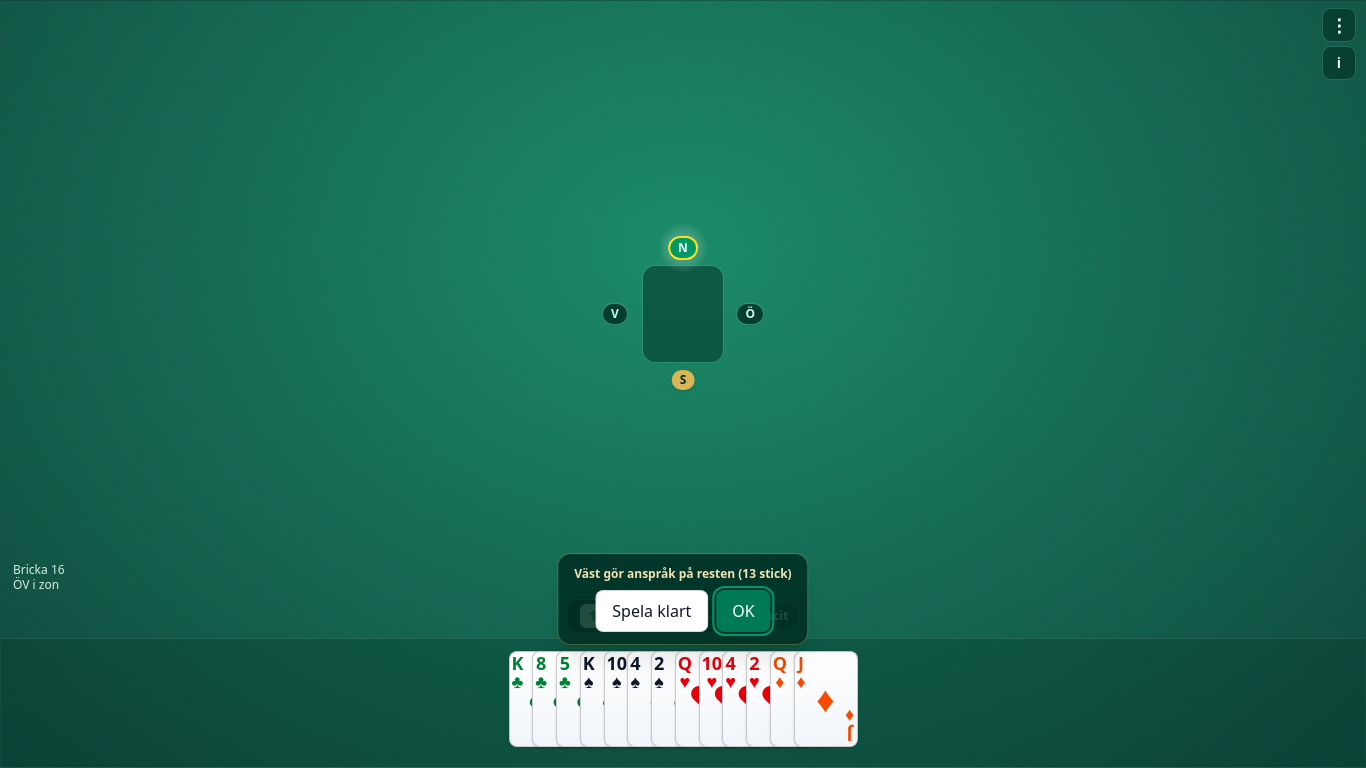
it: Datorn spelför — frågan namnger väderstrecket (claim-ombygget 2026-09-19) › "Väst gör anspråk på resten (13 stick)" → OK → "Väst tar resten"
Expected: the text "Väst gör anspråk på resten (13 stick)" is shown, [574,566,792,582]
Click the button "OK" at (744, 612), box [716,590,771,632]
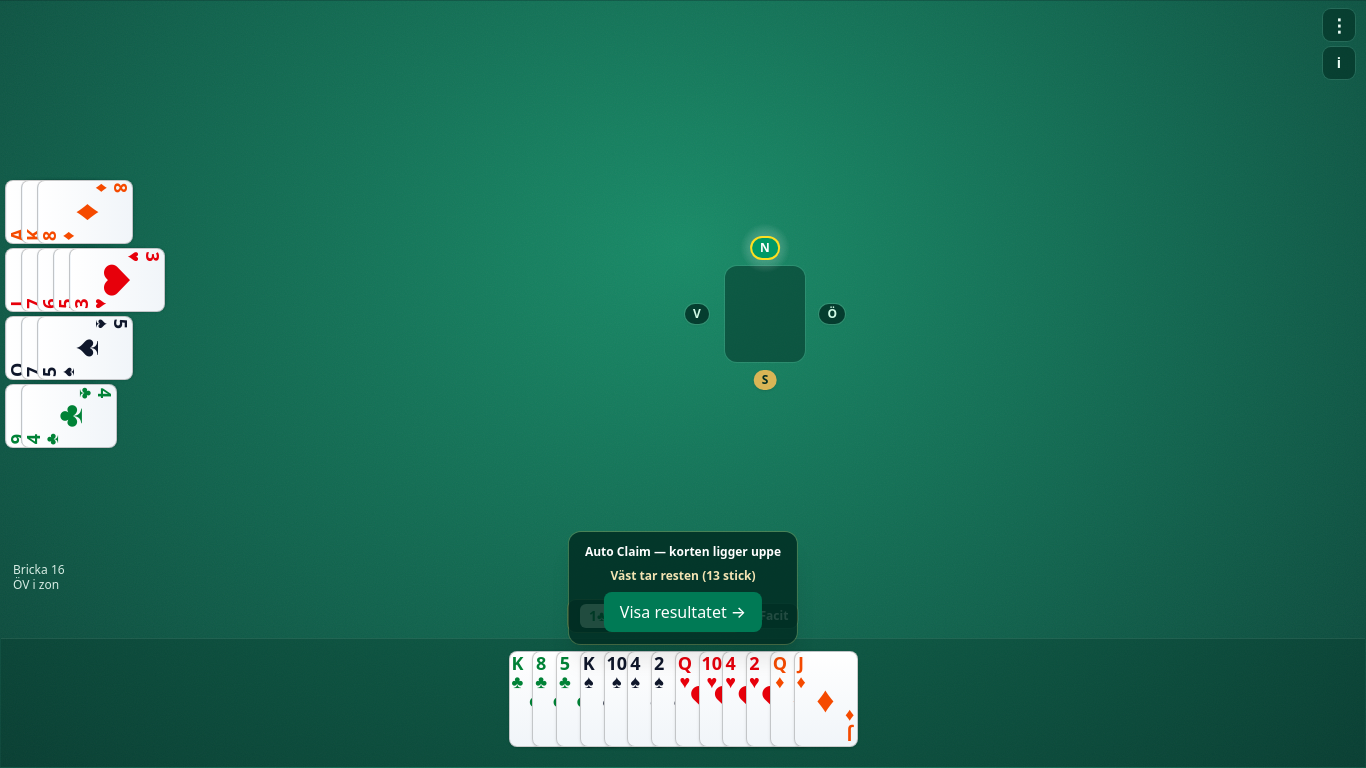
Expected: the text "Väst tar resten (13 stick)" is shown, [610,568,756,584]
